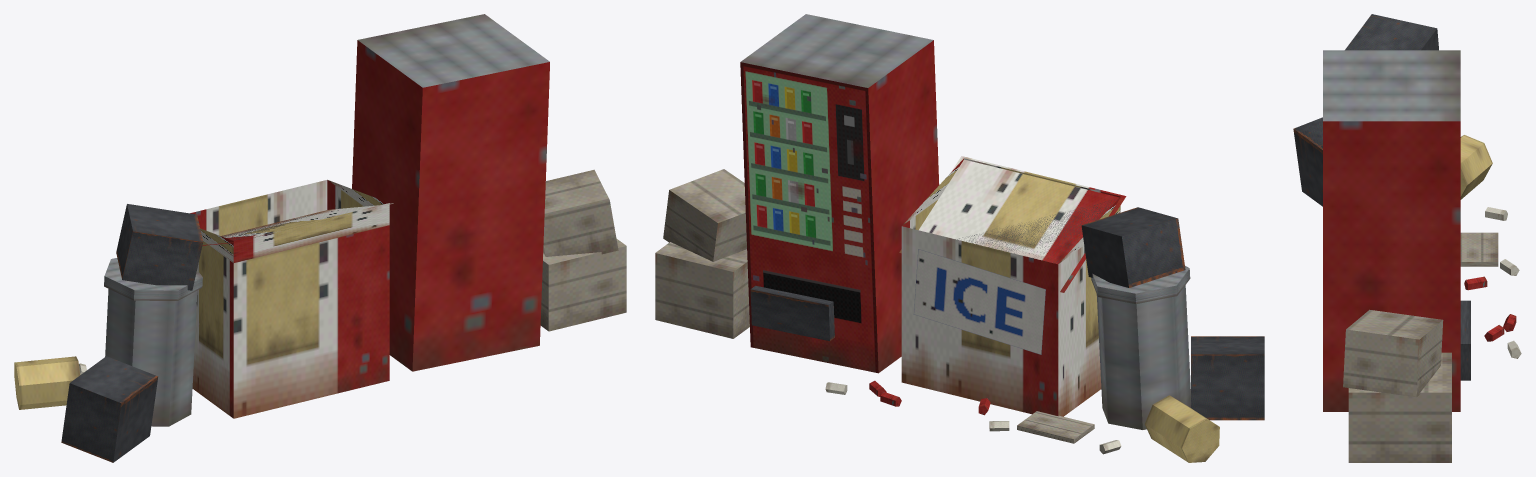
The model's file is ServiceCorner.fbx.
3 renders of one model, left to right at view 1: azimuth 30°, elevation 25°; view 2: azimuth 150°, elevation 25°; view 3: azimuth 270°, elevation 25°, orthographic. The views are drawn at different scales.
Parts seen in each view (by area): view 1: ServiceCorner; view 2: ServiceCorner; view 3: ServiceCorner.
Part boxes in pixels (bbox=[...]): ServiceCorner: bbox=[14, 14, 626, 462]; ServiceCorner: bbox=[655, 14, 1264, 462]; ServiceCorner: bbox=[1293, 14, 1521, 462].
Bounding box in the file's own units: 4.03 × 1.96 × 1.33.
